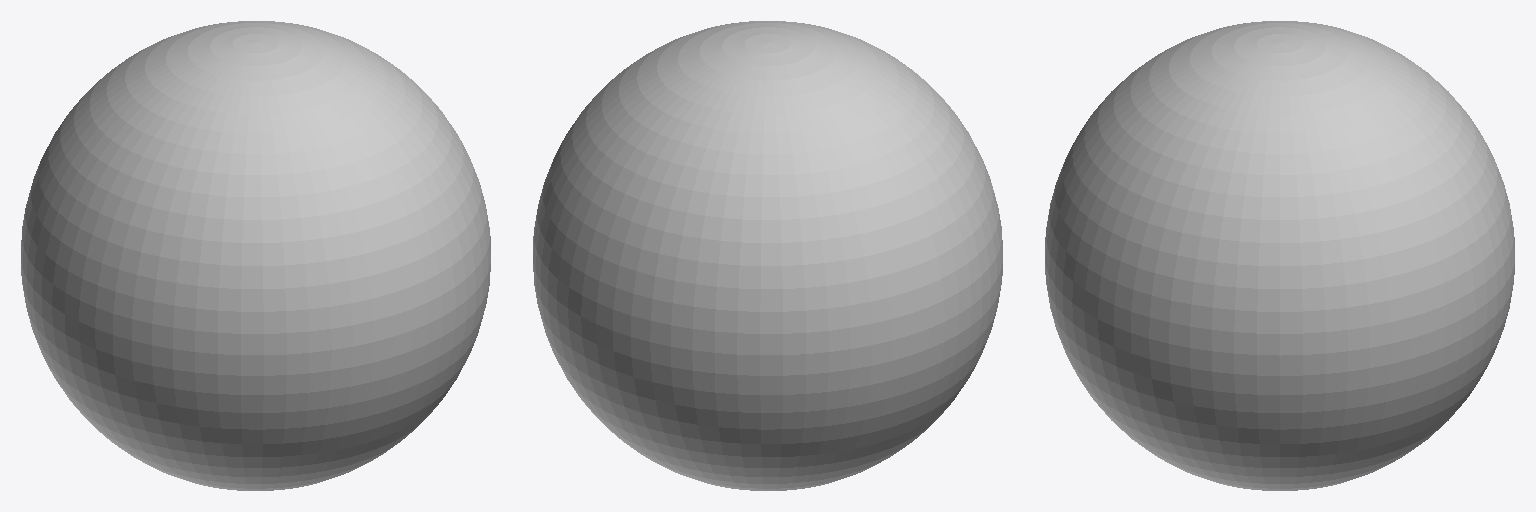
Rendered from myball3968.obj.
The picture shows the model from 3 angles: view 1: azimuth 30°, elevation 25°; view 2: azimuth 150°, elevation 25°; view 3: azimuth 270°, elevation 25°; orthographic projection.
Visible parts, largest first — view 1: ポリゴンメッシュ; view 2: ポリゴンメッシュ; view 3: ポリゴンメッシュ.
Part boxes in pixels (x1,y1,x2,y2): ポリゴンメッシュ: (21,21,490,490); ポリゴンメッシュ: (533,21,1002,490); ポリゴンメッシュ: (1045,21,1514,490).
Size of the model in its own units: 0.4301 by 0.4301 by 0.4301.